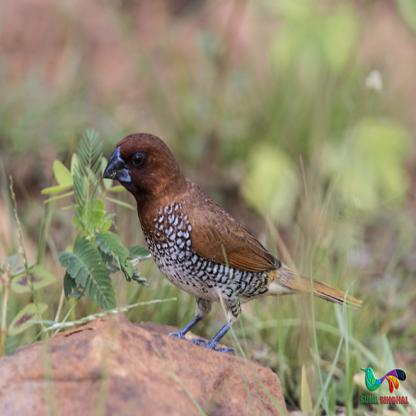Burung: (102, 133, 361, 352)
